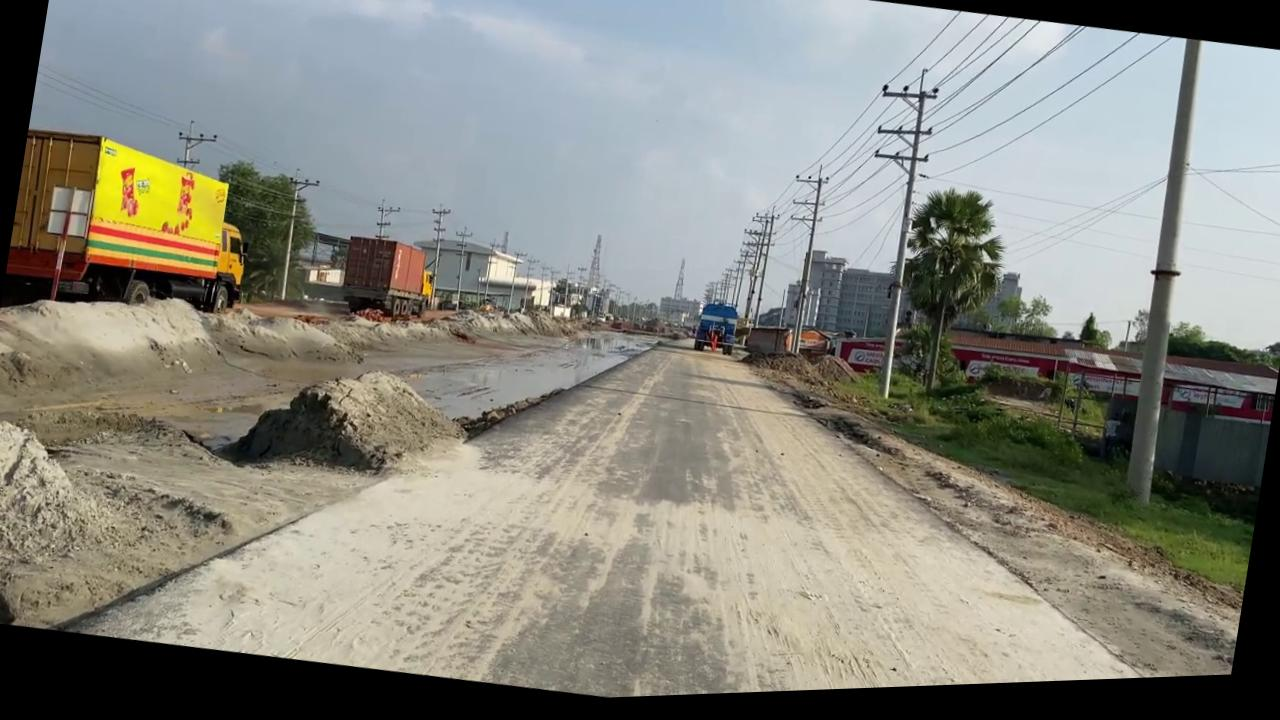Pole: (1112, 46, 1222, 515), (832, 68, 942, 407)
Sidewalk: (50, 250, 662, 715)
Traffic-sign: (879, 184, 1016, 411)
Tree: (1, 119, 265, 340), (337, 233, 440, 329), (691, 301, 741, 362)
